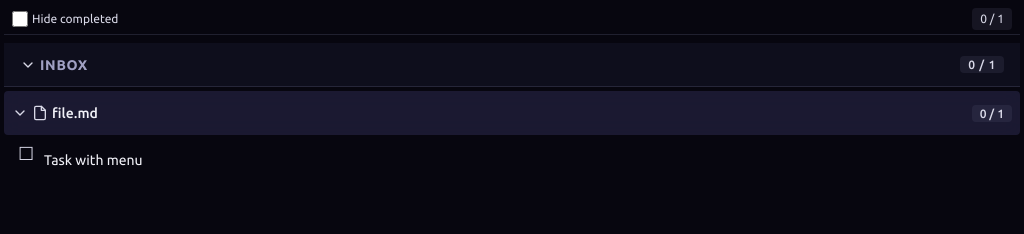
Test: TaskList › context menu › opens context menu on right-click
Right-click the button named "Toggle task: Task with menu" at (26, 153), box 4,131 -> 48,175
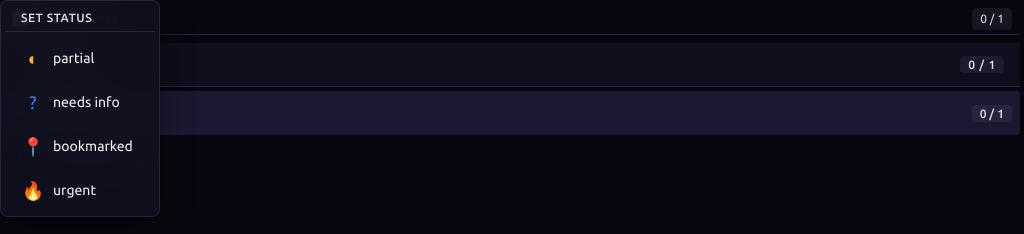
Now the menu is shown, box 0,0 -> 160,217
Now the text "Set status" is shown, box 5,5 -> 155,32
